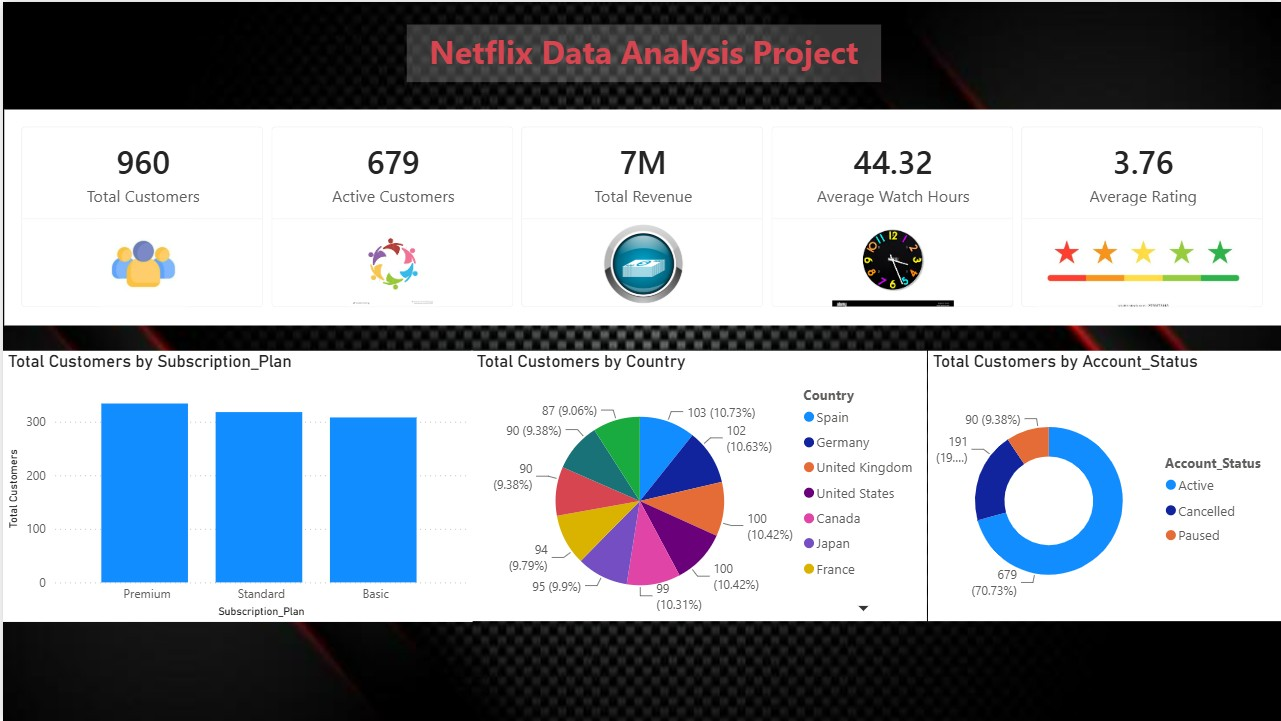

The dashboard page shown, as its layout file describes it:
{"tool":"powerbi","page":{"name":"Page 1","canvas":[1280,720],"ordinal":0},"visuals":[{"type":"textbox","box":[403.4,22,474.1,57.9],"z":0},{"type":"cardVisual","fields":{"Data":["Dax Measures.Total Customers","Dax Measures.Active Customers","Dax Measures.Total Revenue","Dax Measures.Average Watch Hours","Dax Measures.Average Rating"]},"box":[1.4,107,1279.4,215.8],"z":1000},{"type":"clusteredColumnChart","fields":{"Y":["Dax Measures.Total Customers"],"Category":["netflix_db netflix_customers.Subscription_Plan"]},"box":[0,348.5,469.3,271.4],"z":2000},{"type":"pieChart","fields":{"Y":["Dax Measures.Total Customers"],"Category":["netflix_db netflix_customers.Country"]},"box":[469.3,348.5,455.6,270.3],"z":2001},{"type":"donutChart","fields":{"Category":["netflix_db netflix_customers.Account_Status"],"Y":["Dax Measures.Total Customers"]},"box":[924.9,348.5,354,270],"z":2002}]}

Visuals, with their boxes in screenshot pixels (x1, y1, x2, y2), scaled from the page's 1280x720 canvas onto the 1281x721 screenshot:
textbox: l=404, t=22, r=878, b=80
cardVisual - Dax Measures.Total Customers x Dax Measures.Active Customers: l=1, t=107, r=1280, b=323
clusteredColumnChart - Dax Measures.Total Customers x netflix_db netflix_customers.Subscription_Plan: l=0, t=349, r=470, b=621
pieChart - Dax Measures.Total Customers x netflix_db netflix_customers.Country: l=470, t=349, r=926, b=620
donutChart - netflix_db netflix_customers.Account_Status x Dax Measures.Total Customers: l=926, t=349, r=1280, b=619
